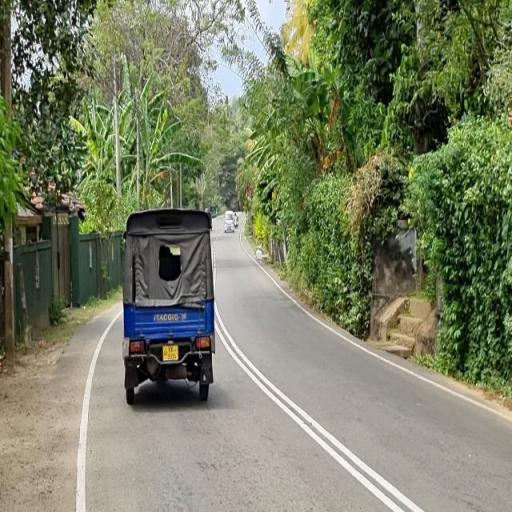double_white_line: (221, 306, 431, 512)
